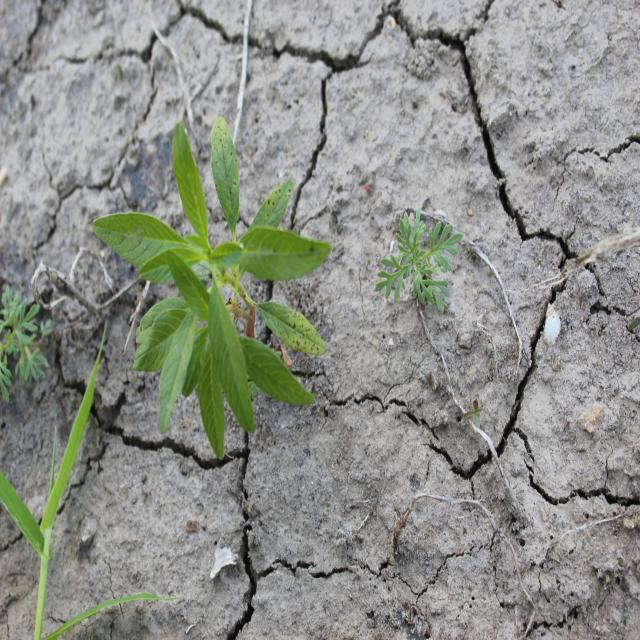Ragweed: (372, 206, 464, 316), (0, 282, 54, 405)
Waterhemp: (91, 114, 333, 462)
